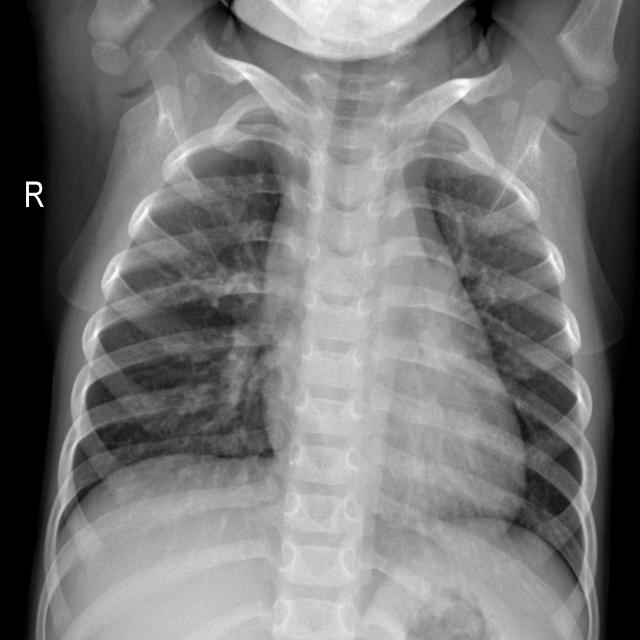normal_lung: (4, 0, 640, 640)
